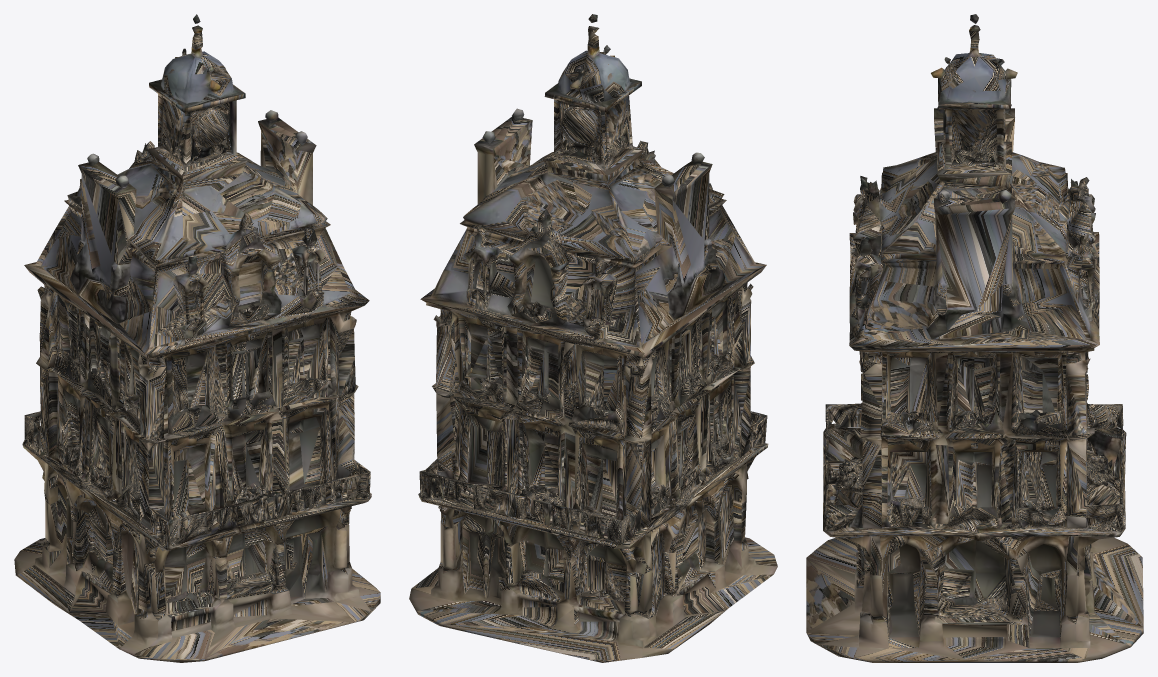
File: A_parisian_building.glb
3 renders of one model, left to right at view 1: azimuth 30°, elevation 25°; view 2: azimuth 150°, elevation 25°; view 3: azimuth 270°, elevation 25°, orthographic. The views are drawn at different scales.
Visible parts, largest first — view 1: A_parisian_building; view 2: A_parisian_building; view 3: A_parisian_building.
Part boxes in pixels (bbox=[...]): A_parisian_building: bbox=[14, 14, 380, 662]; A_parisian_building: bbox=[409, 14, 777, 662]; A_parisian_building: bbox=[806, 14, 1143, 662].
Bounding box in the file's own units: 0.9175 × 1.92 × 1.01.
1 material, 1 textured.
